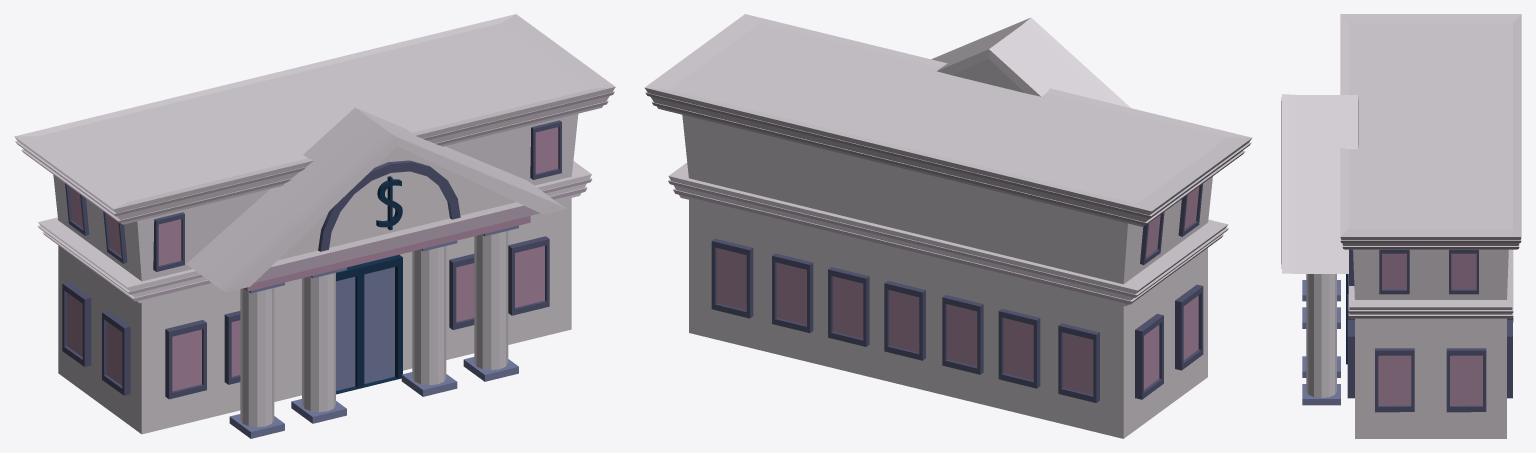
Rendered from BANK.fbx.
The picture shows the model from 3 angles, left to right: view 1: azimuth 30°, elevation 25°; view 2: azimuth 150°, elevation 25°; view 3: azimuth 270°, elevation 25°; orthographic projection. The views are drawn at different scales.
Parts seen in each view (by area): view 1: pCube1, pCube2, pCube33, pCube23, polySurface5, polySurface11, polySurface14, polySurface8, pCube28, pCylinder8, pCube3, pCube17 (+8 smaller); view 2: pCube1, pCube34, pCube2, pCube28, polySurface3, polySurface2, polySurface1, pCube31; view 3: pCube1, pCube2, pCube27, polySurface14, pCube32, pCube33, polySurface15, pCube34.
Part boxes in pixels (x1,y1,x2,y2): pCube1: [14, 14, 615, 434]; pCube2: [186, 107, 567, 292]; pCube33: [165, 236, 549, 399]; pCube23: [336, 254, 402, 394]; polySurface5: [240, 288, 274, 427]; polySurface11: [412, 246, 446, 385]; polySurface14: [474, 231, 508, 370]; polySurface8: [302, 273, 335, 412]; pCube28: [62, 282, 130, 395]; pCylinder8: [318, 160, 460, 251]; pCube3: [244, 216, 530, 291]; pCube17: [530, 120, 561, 179]; pCube1: [644, 14, 1252, 438]; pCube34: [711, 238, 1099, 402]; pCube2: [931, 17, 1130, 107]; pCube28: [1135, 284, 1203, 399]; polySurface3: [828, 267, 869, 346]; polySurface2: [884, 281, 925, 360]; polySurface1: [942, 295, 983, 374]; pCube31: [1140, 184, 1202, 265]; pCube1: [1340, 14, 1521, 438]; pCube2: [1281, 94, 1358, 273]; pCube27: [1375, 348, 1486, 412]; polySurface14: [1306, 274, 1336, 397]; pCube32: [1379, 249, 1478, 294]; pCube33: [1347, 294, 1354, 398]; polySurface15: [1302, 384, 1340, 405]; pCube34: [1507, 318, 1512, 398].
Bounding box in the file's own units: 34.1 × 18.02 × 15.53.
